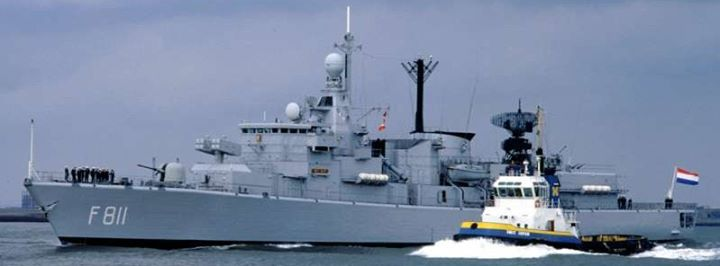otherboat: (435, 141, 658, 264)
warship: (10, 30, 691, 250)
